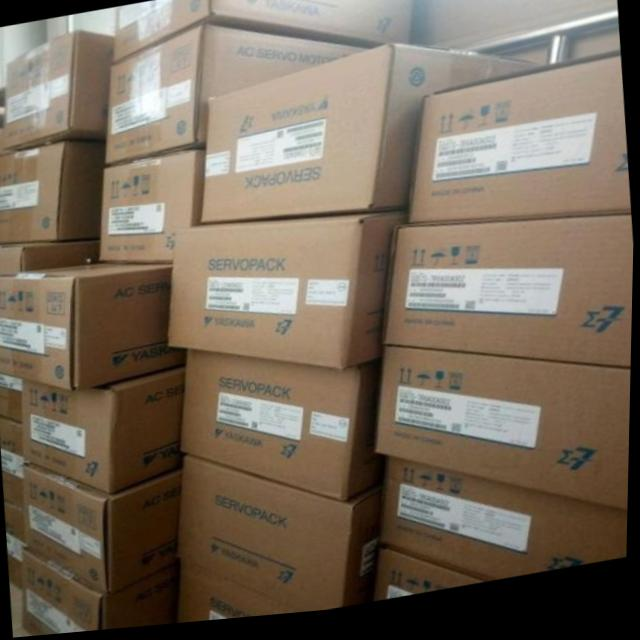box: (201, 50, 550, 226), (379, 352, 633, 520), (385, 226, 634, 378), (168, 217, 409, 374), (408, 65, 631, 232), (108, 30, 373, 166), (179, 457, 388, 618), (184, 351, 391, 507), (384, 468, 630, 589), (0, 264, 189, 392), (23, 461, 185, 596), (24, 366, 187, 496), (113, 0, 414, 64), (24, 545, 184, 637), (0, 31, 114, 153), (99, 154, 206, 265), (0, 142, 107, 241), (180, 563, 307, 627), (379, 552, 488, 605), (0, 240, 99, 276), (0, 415, 24, 510), (6, 501, 25, 592), (0, 373, 23, 424)
